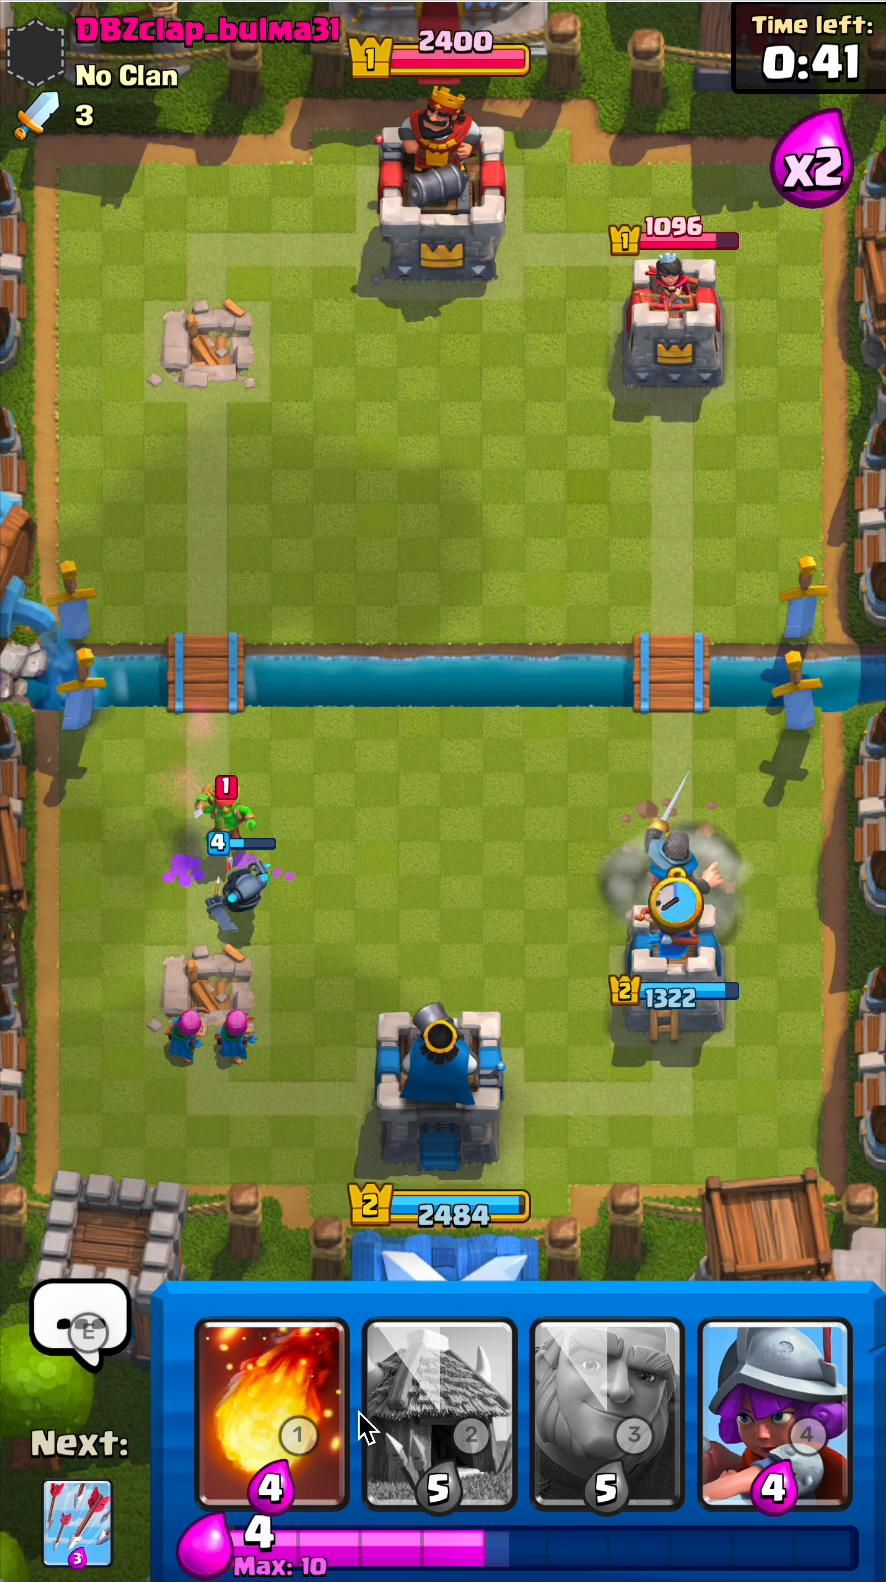archere: (162, 1009, 217, 1075), (215, 1005, 258, 1083)
chevalier: (639, 771, 719, 906)
gobelin_lances: (190, 775, 257, 856)
mini_PEKKA: (198, 855, 282, 946)
